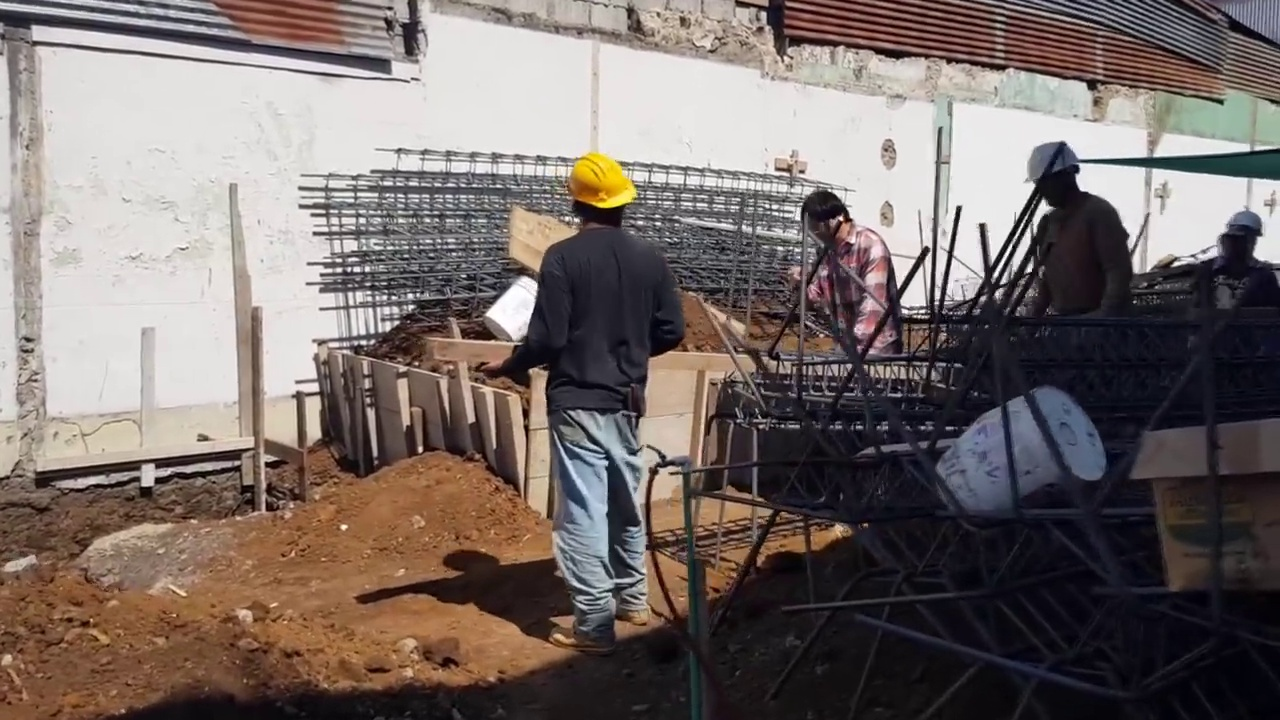helmet: (562, 152, 638, 212), (1023, 142, 1080, 182), (1224, 208, 1266, 237)
helmet-off: (800, 190, 855, 249)
helmet-on: (560, 149, 640, 233), (1021, 138, 1084, 213), (1220, 202, 1264, 260)
person: (474, 150, 682, 654), (1024, 137, 1132, 326), (788, 191, 904, 362), (1191, 203, 1278, 311)
